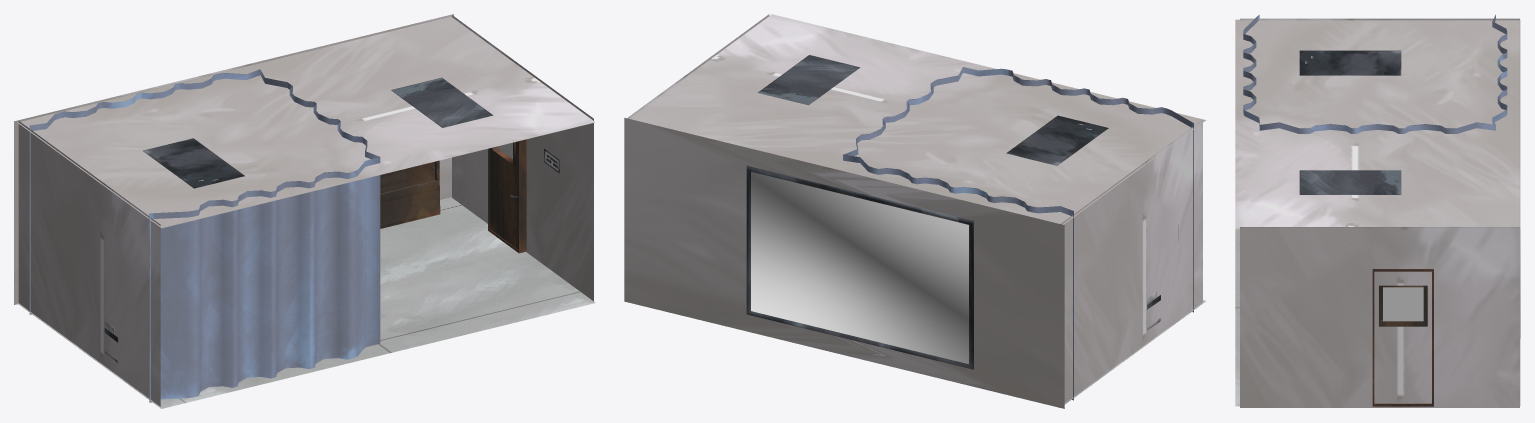
The model's file is E1_Hospital.fbx.
3 renders of one model, left to right at view 1: azimuth 30°, elevation 25°; view 2: azimuth 150°, elevation 25°; view 3: azimuth 270°, elevation 25°, orthographic.
Visible parts, largest first — view 1: HospitalRoomItems, Cortina_closed; view 2: HospitalRoomItems, Cortina_closed; view 3: HospitalRoomItems, Cortina_closed.
Boxes of the visible parts, x1,y1,x2,y2 form: HospitalRoomItems: (14,14,595,408); Cortina_closed: (29,69,380,402); HospitalRoomItems: (624,14,1206,408); Cortina_closed: (843,67,1193,400); HospitalRoomItems: (1235,18,1520,407); Cortina_closed: (1243,14,1507,133).
Bounding box in the file's own units: 704 × 289 × 401.
Materials: 9 (2 with a texture image).
